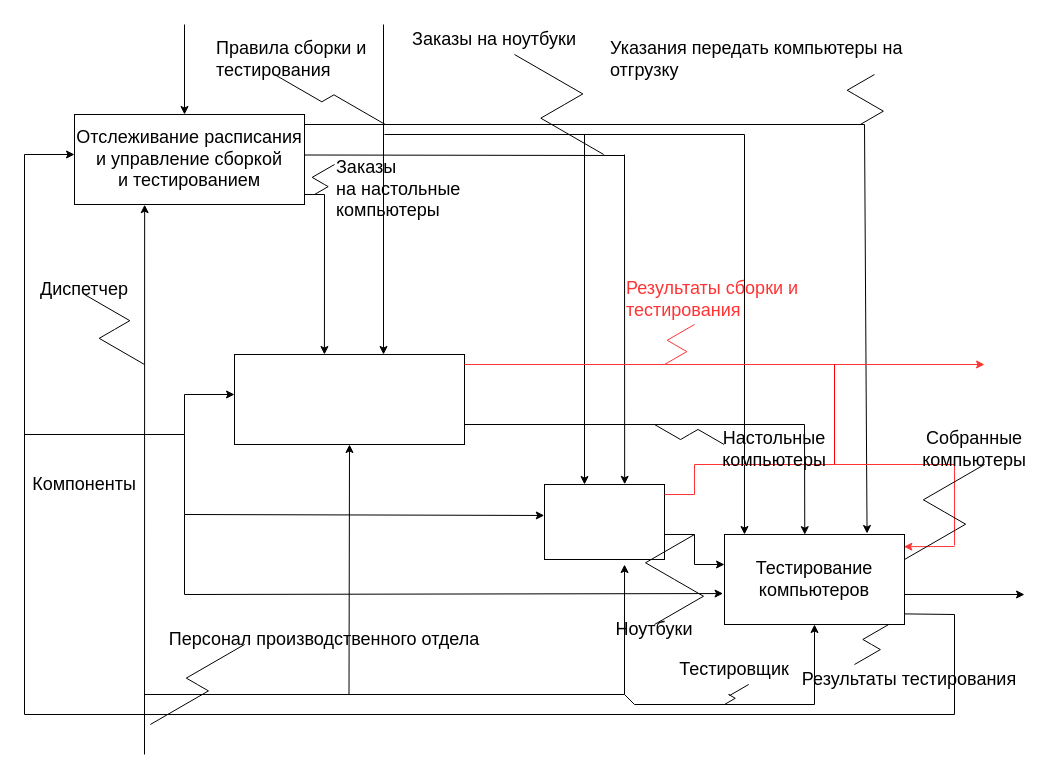
Some shapes in this 1050 by 780 pixel diagram are drawn without their labels. Each missing label, with the box of its shape:
Сборка настольных компьютеров: (234, 354, 464, 444)
Сборка ноутбуков: (544, 484, 664, 560)
